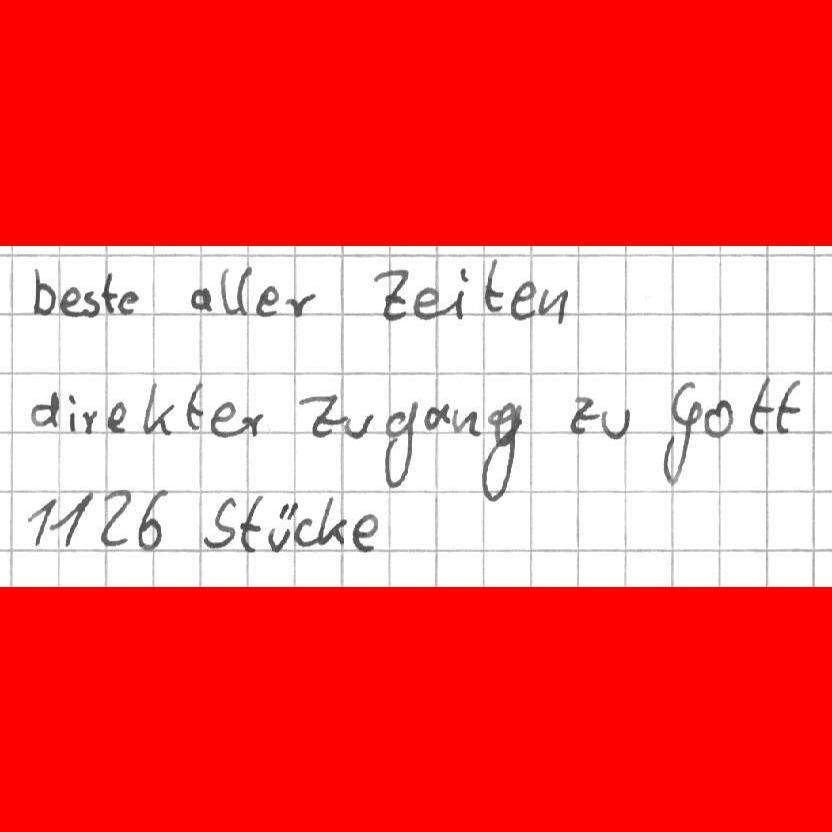Char: (479, 396, 525, 501), (659, 385, 700, 485), (381, 405, 416, 485), (97, 486, 134, 551), (134, 487, 169, 550), (200, 495, 238, 553), (57, 489, 93, 549), (140, 379, 175, 439), (372, 269, 411, 320), (265, 494, 296, 557), (773, 377, 805, 436), (304, 396, 343, 439), (746, 376, 773, 436), (26, 496, 57, 548), (317, 493, 346, 547), (238, 494, 264, 554), (481, 256, 506, 315), (702, 394, 733, 439), (443, 265, 468, 320), (31, 264, 55, 318), (567, 393, 598, 434), (537, 283, 566, 326), (31, 389, 59, 430), (510, 279, 536, 323), (601, 404, 631, 442), (352, 511, 378, 553), (184, 381, 205, 432), (411, 283, 439, 320), (209, 399, 234, 439), (343, 410, 374, 440), (236, 265, 254, 316), (217, 268, 235, 315), (106, 399, 130, 434), (256, 284, 280, 318), (283, 291, 312, 318), (58, 284, 81, 318), (189, 283, 214, 314), (452, 406, 478, 435), (291, 515, 314, 547), (238, 409, 264, 437), (423, 402, 447, 432), (78, 406, 101, 434), (81, 286, 100, 318), (102, 272, 115, 318), (116, 289, 139, 314), (66, 391, 78, 432)
